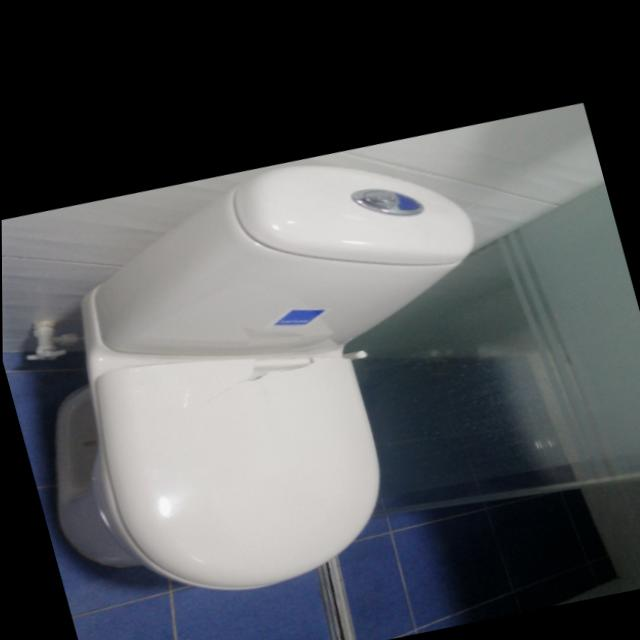toilet: (1, 103, 555, 640)
